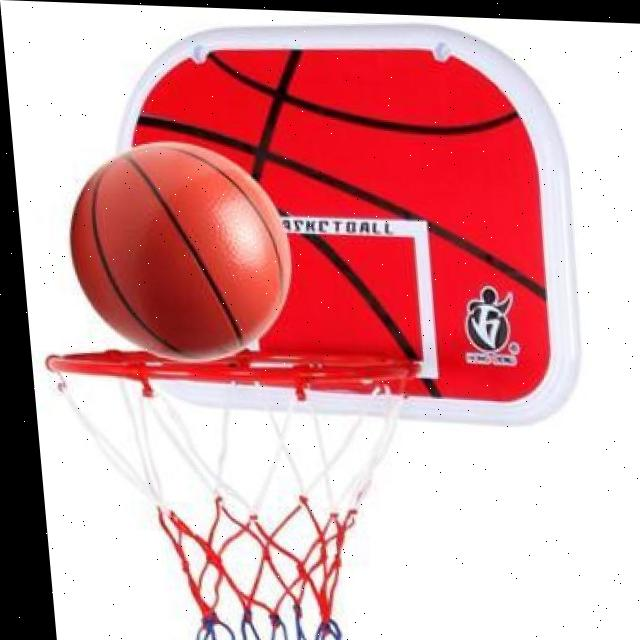rebound_hit: (60, 136, 302, 374)
